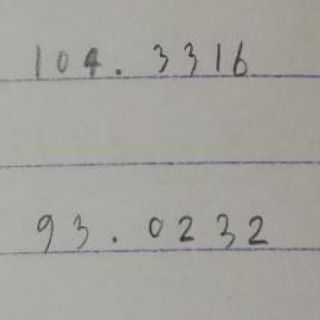.: (107, 233, 122, 247), (111, 66, 126, 77)
0: (146, 214, 164, 240), (54, 48, 70, 75)
1: (32, 40, 43, 79), (213, 39, 223, 73)
2: (247, 214, 270, 245), (176, 214, 196, 243)
3: (215, 212, 237, 250), (71, 213, 90, 252), (151, 42, 170, 74), (184, 40, 199, 77)
4: (83, 46, 103, 78)
6: (231, 40, 249, 78)
9: (35, 212, 55, 254)
